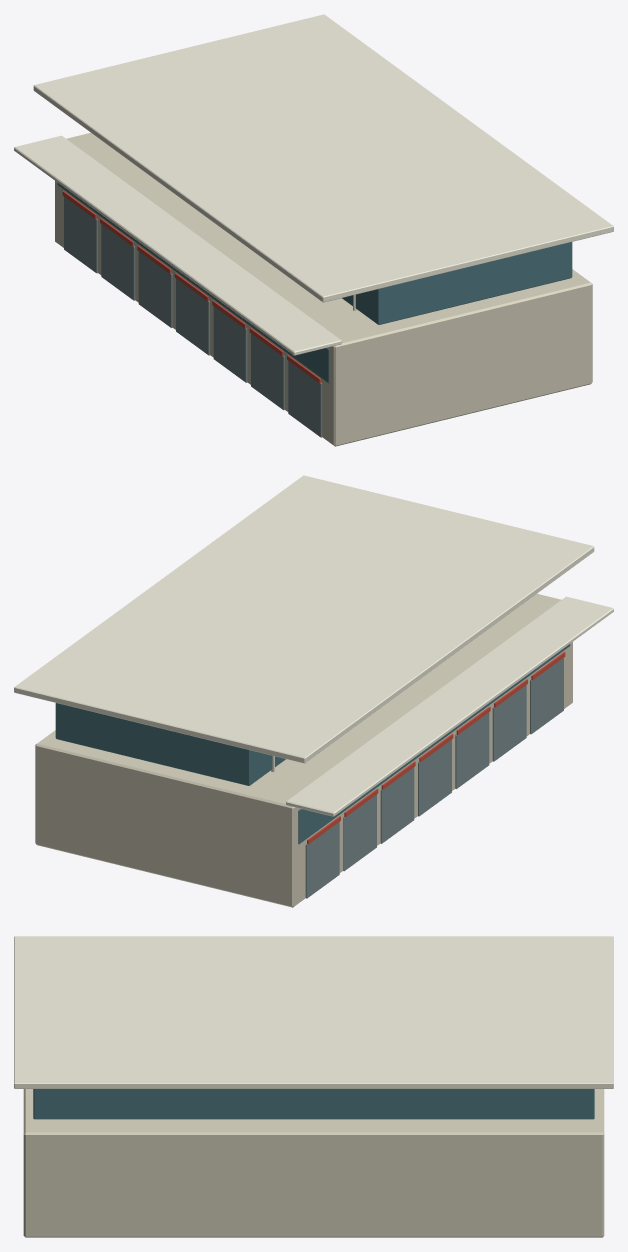
Rendered from ENV_Spa_PitModule_30m.glb.
The picture shows the model from 3 angles, top to bottom: view 1: azimuth 30°, elevation 25°; view 2: azimuth 150°, elevation 25°; view 3: azimuth 270°, elevation 25°; orthographic projection. The views are drawn at different scales.
Parts seen in each view (by area): view 1: ENV_Spa_PitModule_30m; view 2: ENV_Spa_PitModule_30m; view 3: ENV_Spa_PitModule_30m.
Boxes of the visible parts, x1,y1,x2,y2 form: ENV_Spa_PitModule_30m: (14,14,613,446); ENV_Spa_PitModule_30m: (14,475,613,907); ENV_Spa_PitModule_30m: (14,936,613,1237).
Bounding box in the file's own units: 19.5 × 9.32 × 31.
